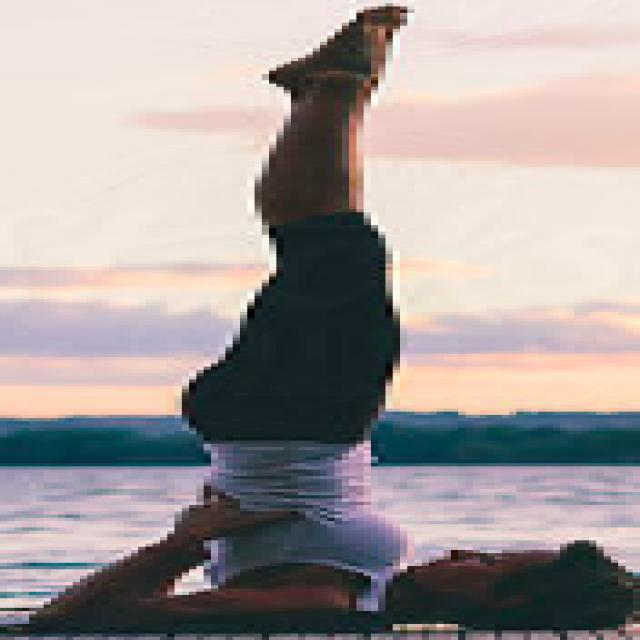yoga-pose shoulderstand: (39, 2, 608, 628)
